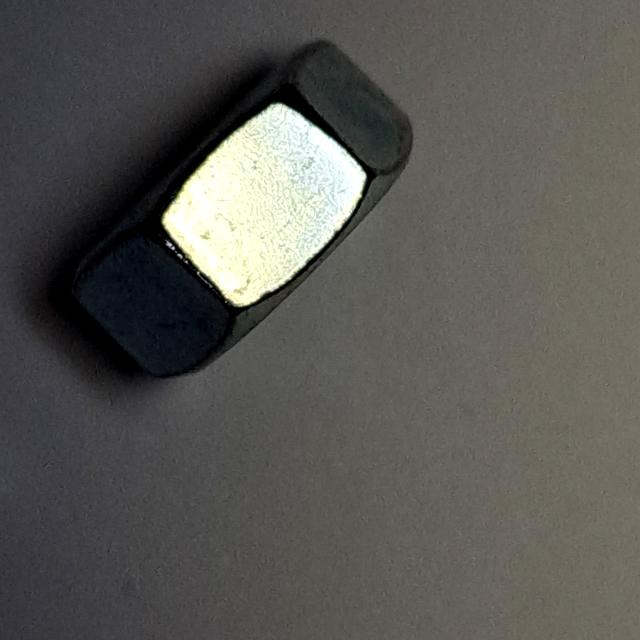Side_Excellent: (47, 19, 429, 401)
